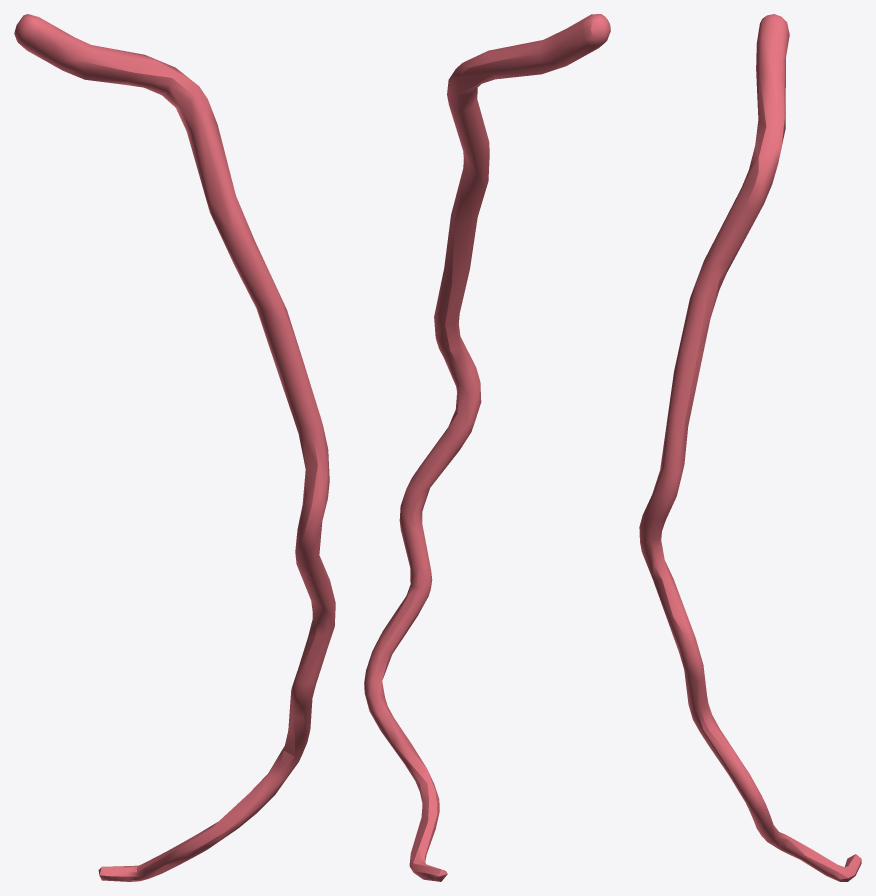
Rendered from fma3860_fj2635.glb.
The picture shows the model from 3 angles, left to right: view 1: azimuth 30°, elevation 25°; view 2: azimuth 150°, elevation 25°; view 3: azimuth 270°, elevation 25°; orthographic projection. The views are drawn at different scales.
Visible parts, largest first — view 1: FMA3860_FJ2635; view 2: FMA3860_FJ2635; view 3: FMA3860_FJ2635.
Boxes of the visible parts, x1,y1,x2,y2 form: FMA3860_FJ2635: (14, 14, 335, 881); FMA3860_FJ2635: (364, 14, 610, 881); FMA3860_FJ2635: (639, 14, 861, 881).
Size of the model in its own units: 0.014 by 0.0456 by 0.0114.
